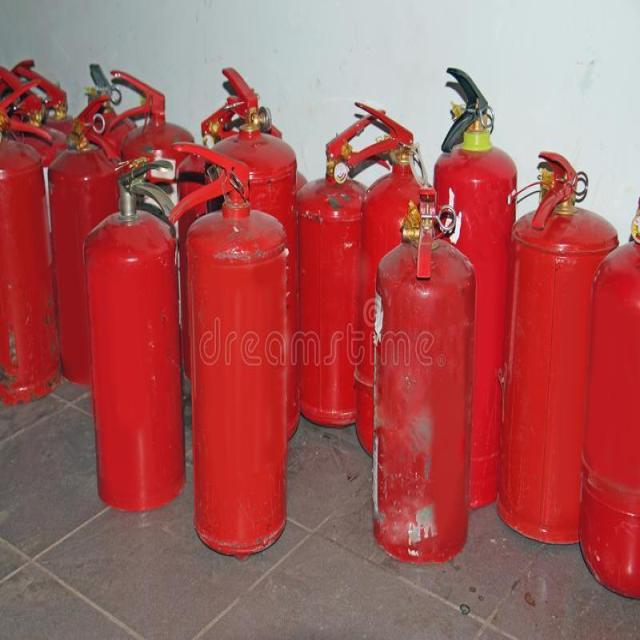fire_extinguisher: (162, 132, 309, 564), (489, 142, 636, 558), (428, 57, 536, 515), (286, 103, 418, 443), (344, 90, 459, 473), (362, 174, 473, 568), (80, 146, 194, 523), (105, 61, 221, 428), (212, 57, 315, 458), (568, 172, 639, 620), (44, 90, 133, 390), (0, 62, 63, 414)
